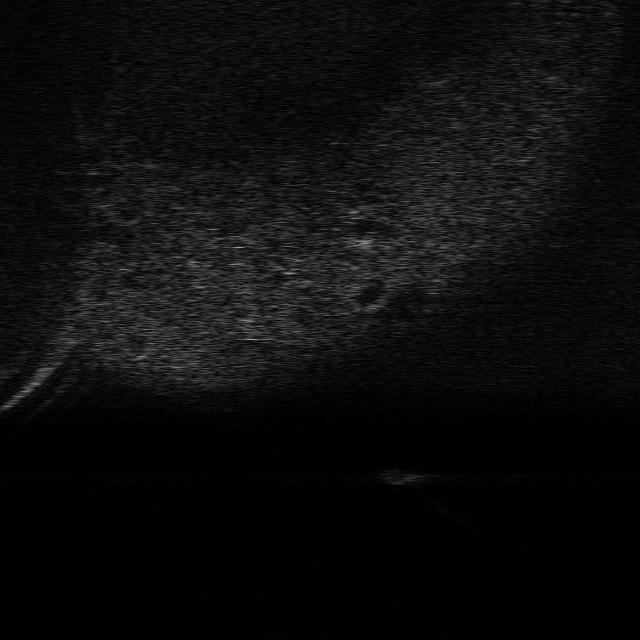cube: (383, 467, 442, 489)
